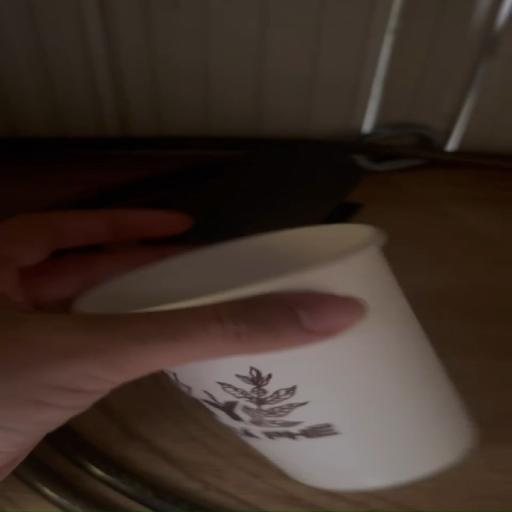Ly_giay: (74, 224, 475, 490)
